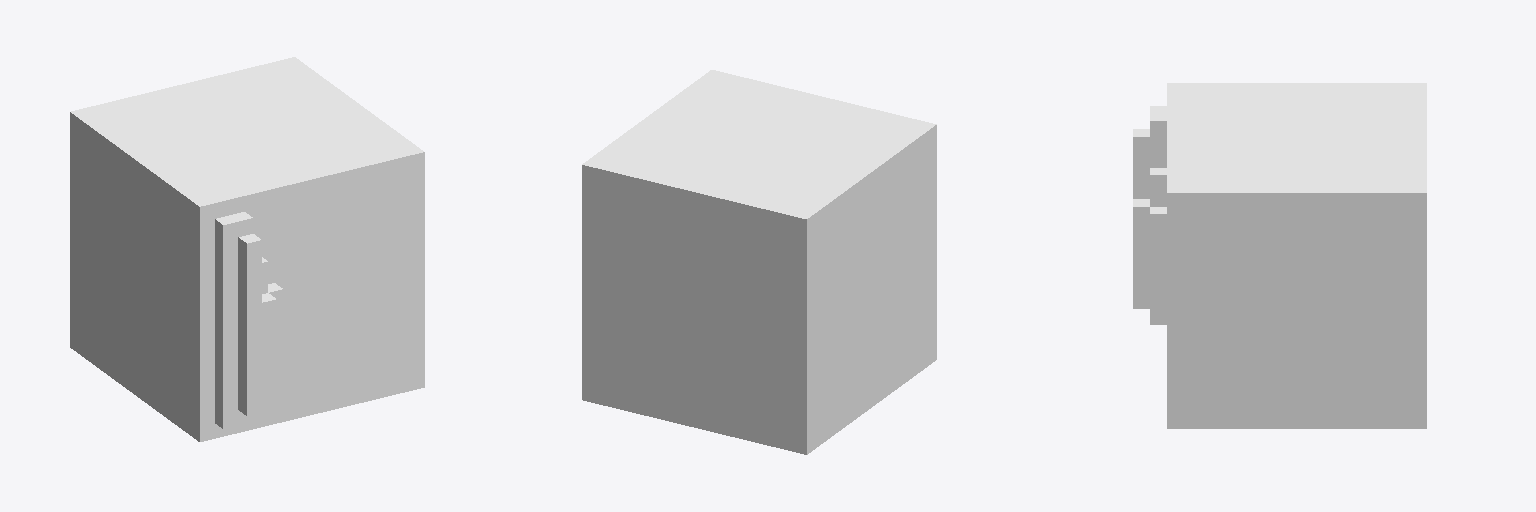
File: edge_out_cube.obj
The picture shows the model from 3 angles: view 1: azimuth 30°, elevation 25°; view 2: azimuth 150°, elevation 25°; view 3: azimuth 270°, elevation 25°; orthographic projection.
Parts seen in each view (by area): view 1: object 1; view 2: object 1; view 3: object 1.
Boxes of the visible parts, box(x1,y1,x2,y2) form: object 1: box(70, 57, 424, 441); object 1: box(582, 70, 936, 454); object 1: box(1133, 83, 1426, 428).
Bounding box in the file's own units: 1.5 × 1.5 × 1.7.